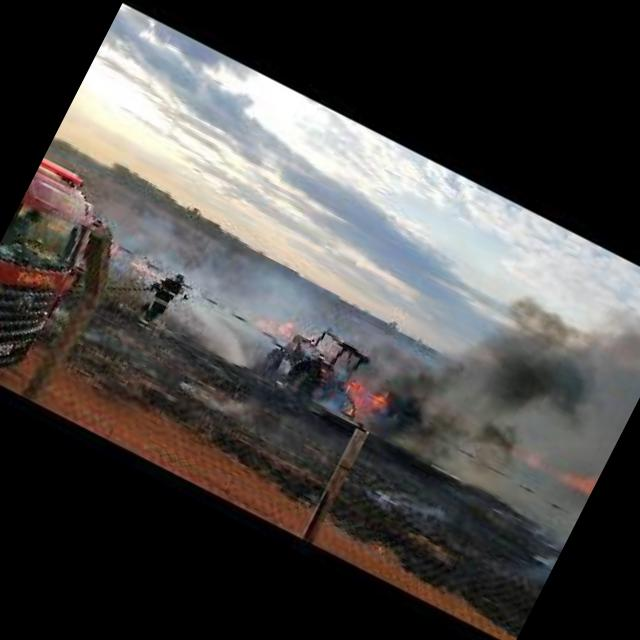fire: (510, 437, 598, 495), (250, 302, 318, 355), (104, 240, 160, 284), (340, 376, 387, 424)
smoke: (430, 298, 622, 495), (364, 348, 488, 468)
